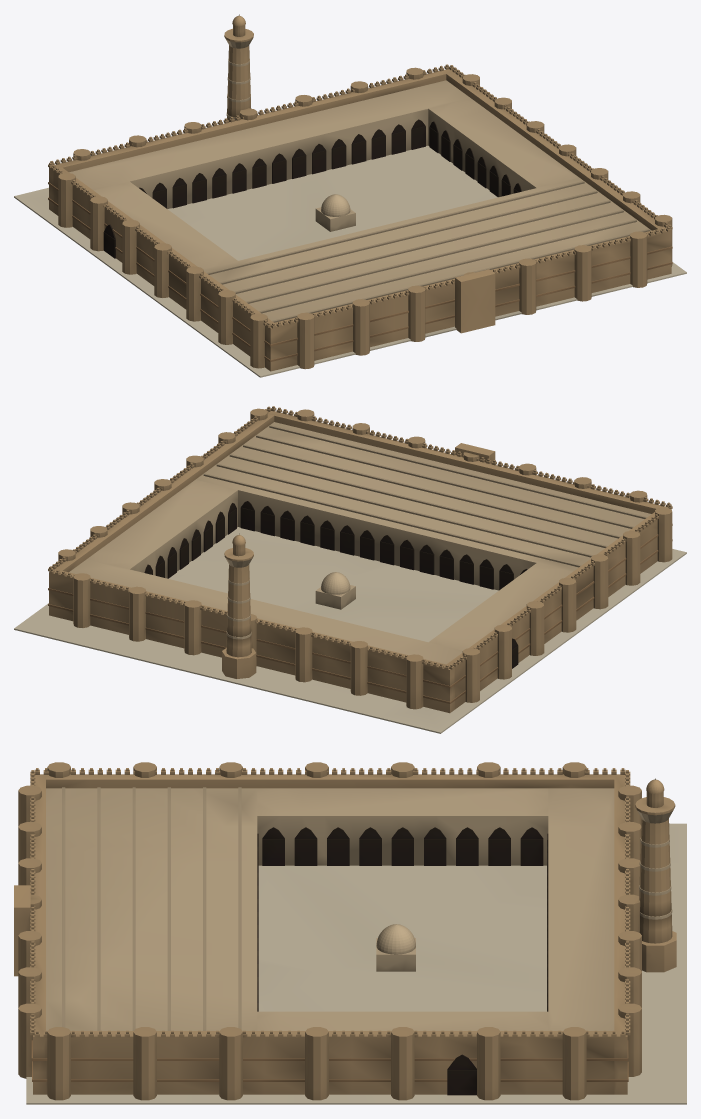
The model's file is mansur-mosque.glb.
3 views of the same model, one above another, from view 1: azimuth 30°, elevation 25°; view 2: azimuth 150°, elevation 25°; view 3: azimuth 270°, elevation 25° (orthographic). The views are drawn at different scales.
Visible parts, largest first — view 1: p1_halls, p0_walls, p2_minaret; view 2: p1_halls, p0_walls, p2_minaret; view 3: p0_walls, p1_halls, p2_minaret.
Boxes of the visible parts, x1,y1,x2,y2 form: p1_halls: (69, 80, 651, 322); p0_walls: (14, 64, 686, 377); p2_minaret: (48, 14, 672, 369); p1_halls: (69, 422, 651, 664); p0_walls: (14, 406, 686, 733); p2_minaret: (48, 408, 672, 709); p0_walls: (26, 768, 686, 1104); p1_halls: (46, 787, 614, 1030); p2_minaret: (14, 762, 676, 1100).
Bounding box in the file's own units: 100 × 31.39 × 102.
